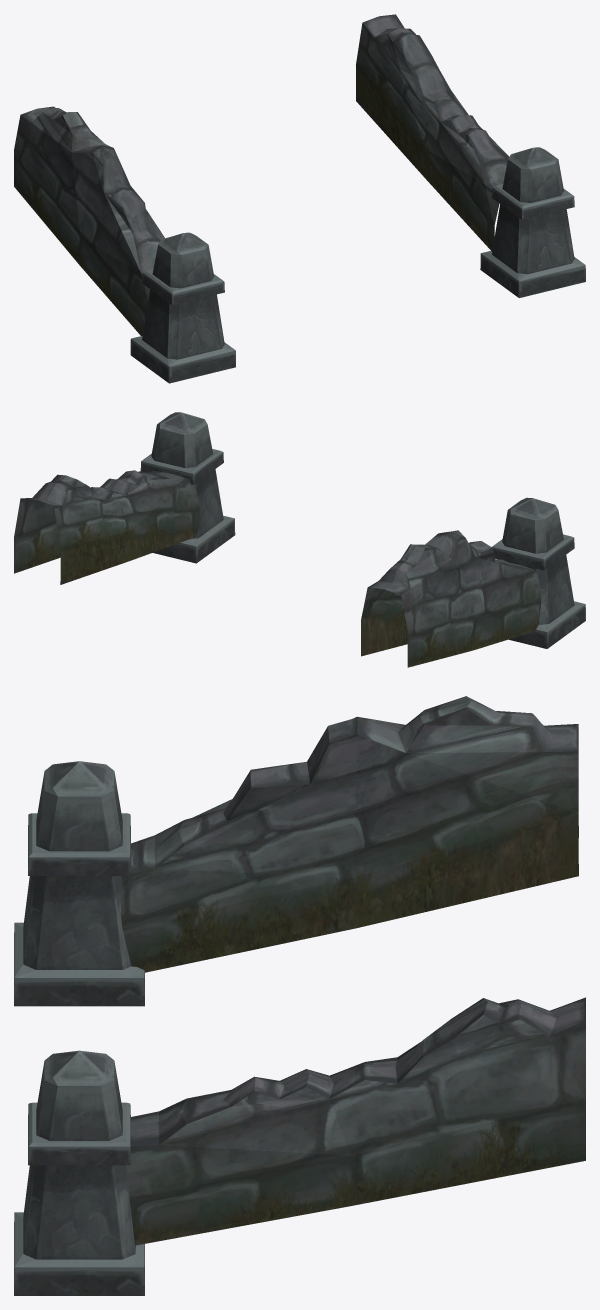
Rendered from object_stonewalls04.fbx.
The picture shows the model from 3 angles, top to bottom: view 1: azimuth 30°, elevation 25°; view 2: azimuth 150°, elevation 25°; view 3: azimuth 270°, elevation 25°; orthographic projection. The views are drawn at different scales.
Visible parts, largest first — view 1: obj1.031; view 2: obj1.031; view 3: obj1.031.
Part boxes in pixels (x1=…): obj1.031: x1=14, y1=14, x2=585, y2=383; obj1.031: x1=14, y1=412, x2=585, y2=667; obj1.031: x1=14, y1=696, x2=585, y2=1295.
Size of the model in its own units: 7.48 by 2.82 by 5.24.
